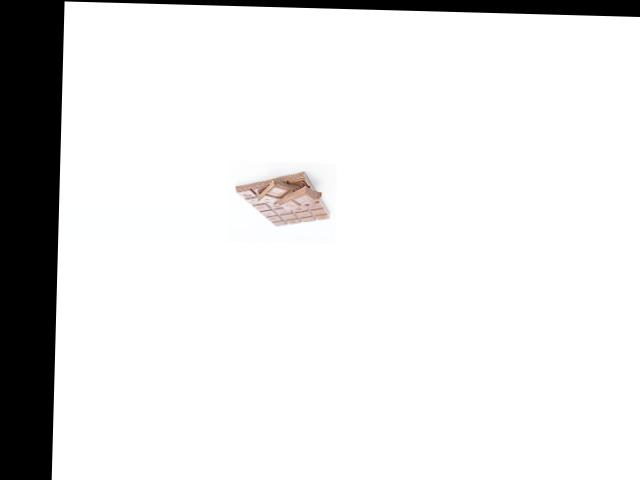chocolate: (233, 165, 332, 232)
